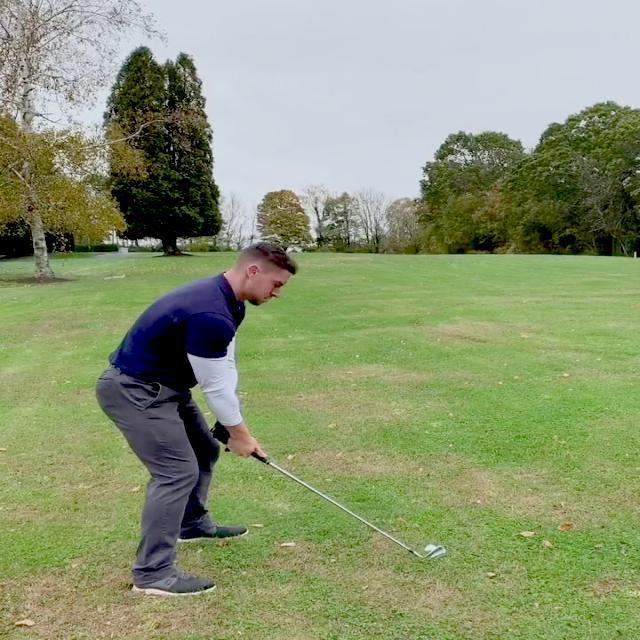ClubHead: (423, 546, 450, 560)
GolfBall: (423, 544, 437, 551)
